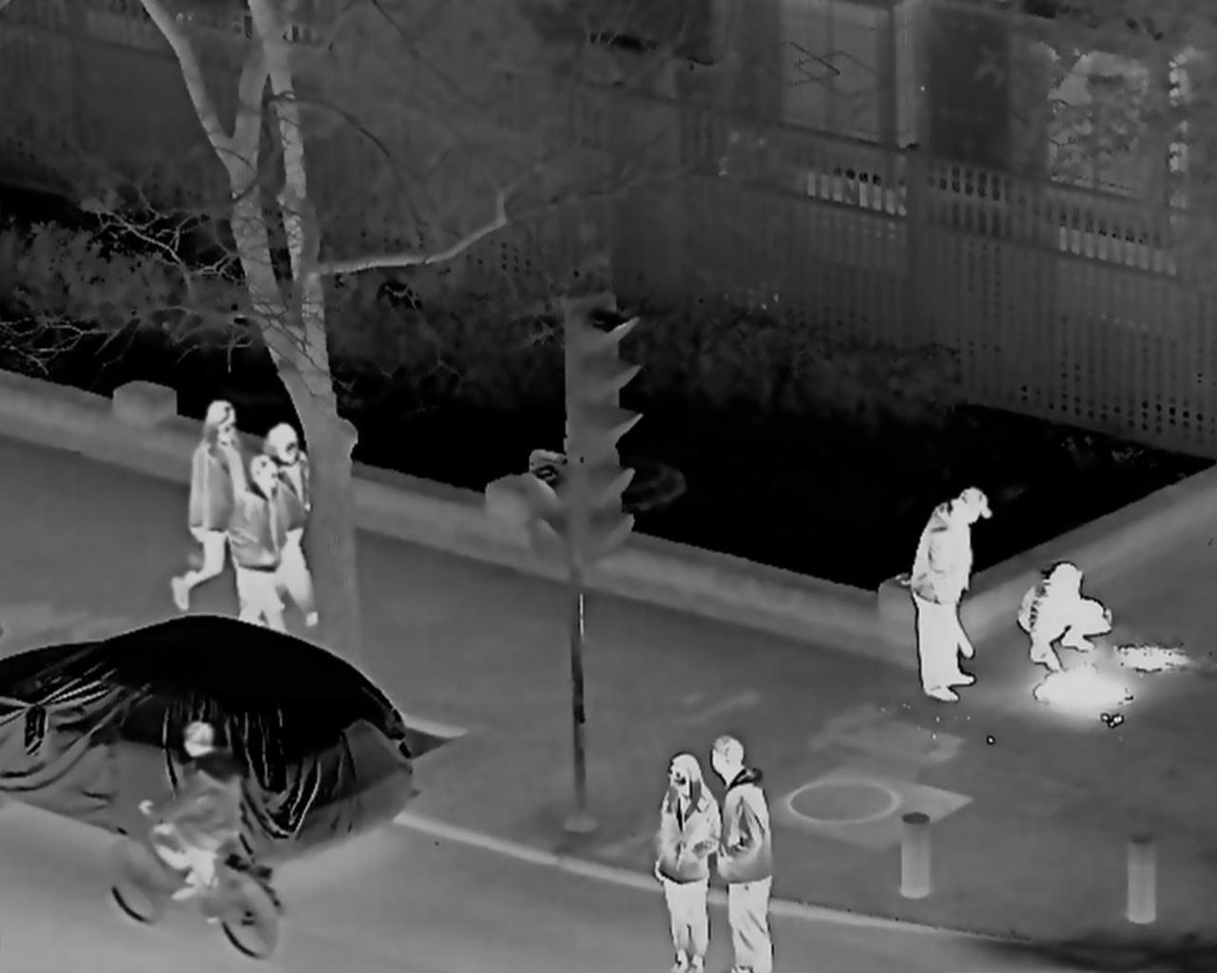person: (171, 403, 254, 615), (706, 735, 776, 973), (246, 421, 323, 630), (912, 486, 983, 700), (153, 718, 236, 900), (653, 754, 721, 970), (228, 460, 290, 648), (1015, 559, 1109, 673)
